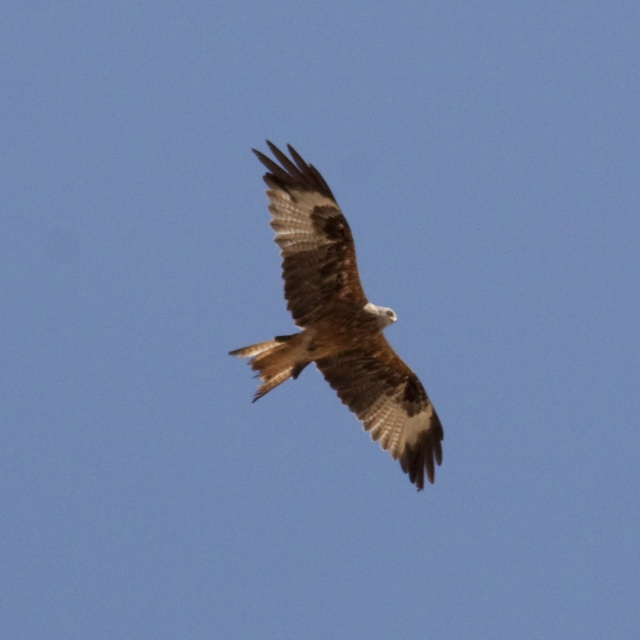Eagle: (227, 136, 444, 501)
